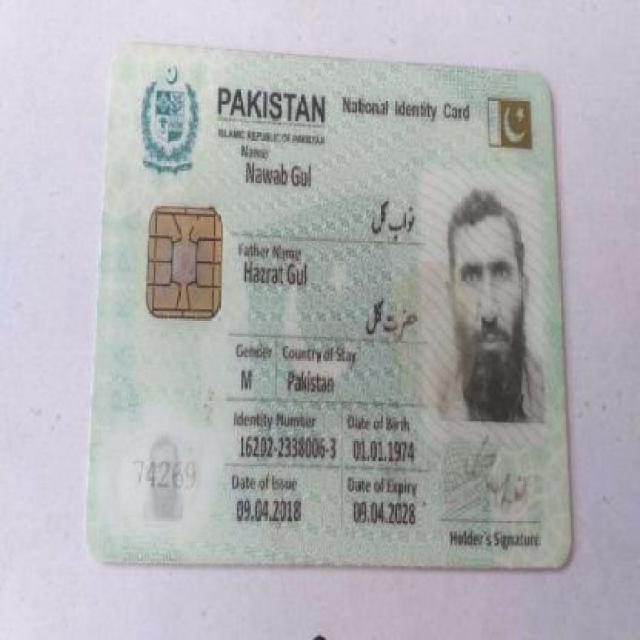Front: (94, 38, 580, 577)
